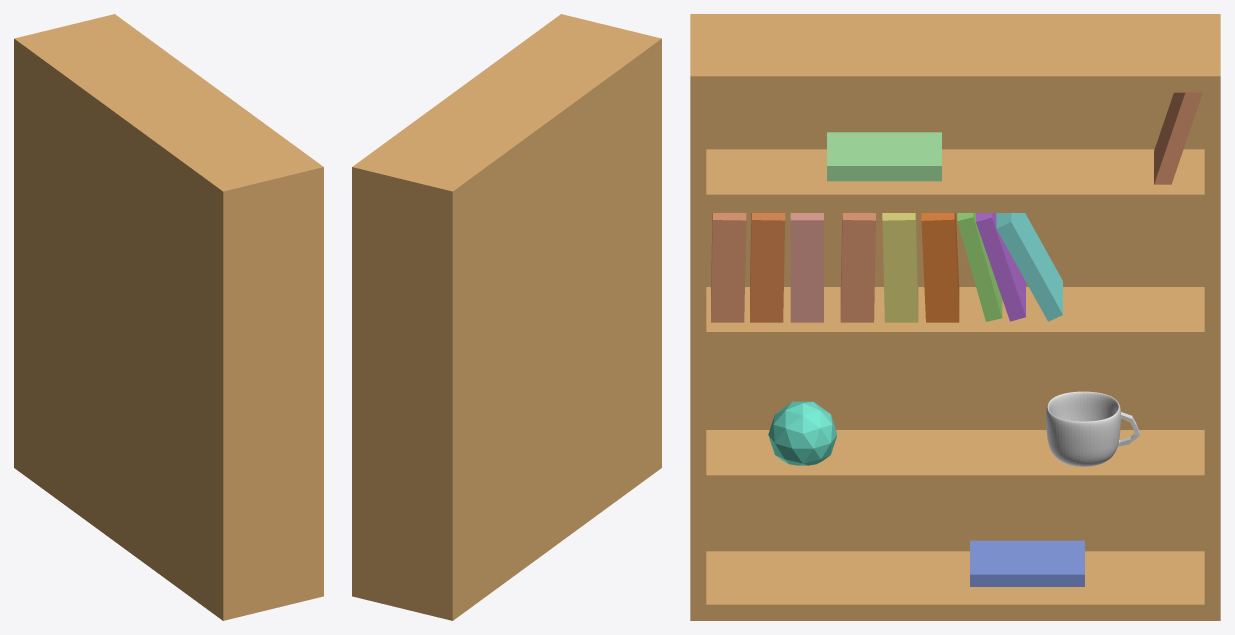
File: shelf.fbx
3 views of the same model, side by side, from view 1: azimuth 30°, elevation 25°; view 2: azimuth 150°, elevation 25°; view 3: azimuth 270°, elevation 25° (orthographic). The views are drawn at different scales.
Parts seen in each view (by area): view 1: Cube; view 2: Cube; view 3: Cube, Cube.013, Cube.005, Cube.012, Cube.011, Cube.010, Cube.009, Cube.006, Cube.007, Cube.008, Cube.003, Icosphere (+3 smaller).
Boxes of the visible parts, x1,y1,x2,y2 form: Cube: [14, 14, 323, 620]; Cube: [352, 14, 661, 620]; Cube: [690, 14, 1220, 620]; Cube.013: [827, 132, 941, 181]; Cube.005: [970, 540, 1084, 586]; Cube.012: [1045, 391, 1139, 466]; Cube.011: [921, 213, 959, 322]; Cube.010: [882, 213, 918, 322]; Cube.009: [840, 213, 875, 322]; Cube.006: [711, 213, 746, 322]; Cube.007: [750, 213, 785, 322]; Cube.008: [790, 213, 823, 322]; Cube.003: [996, 213, 1062, 321]; Icosphere: [768, 401, 837, 465].
Size of the model in its own units: 426 by 1735 by 1531.
